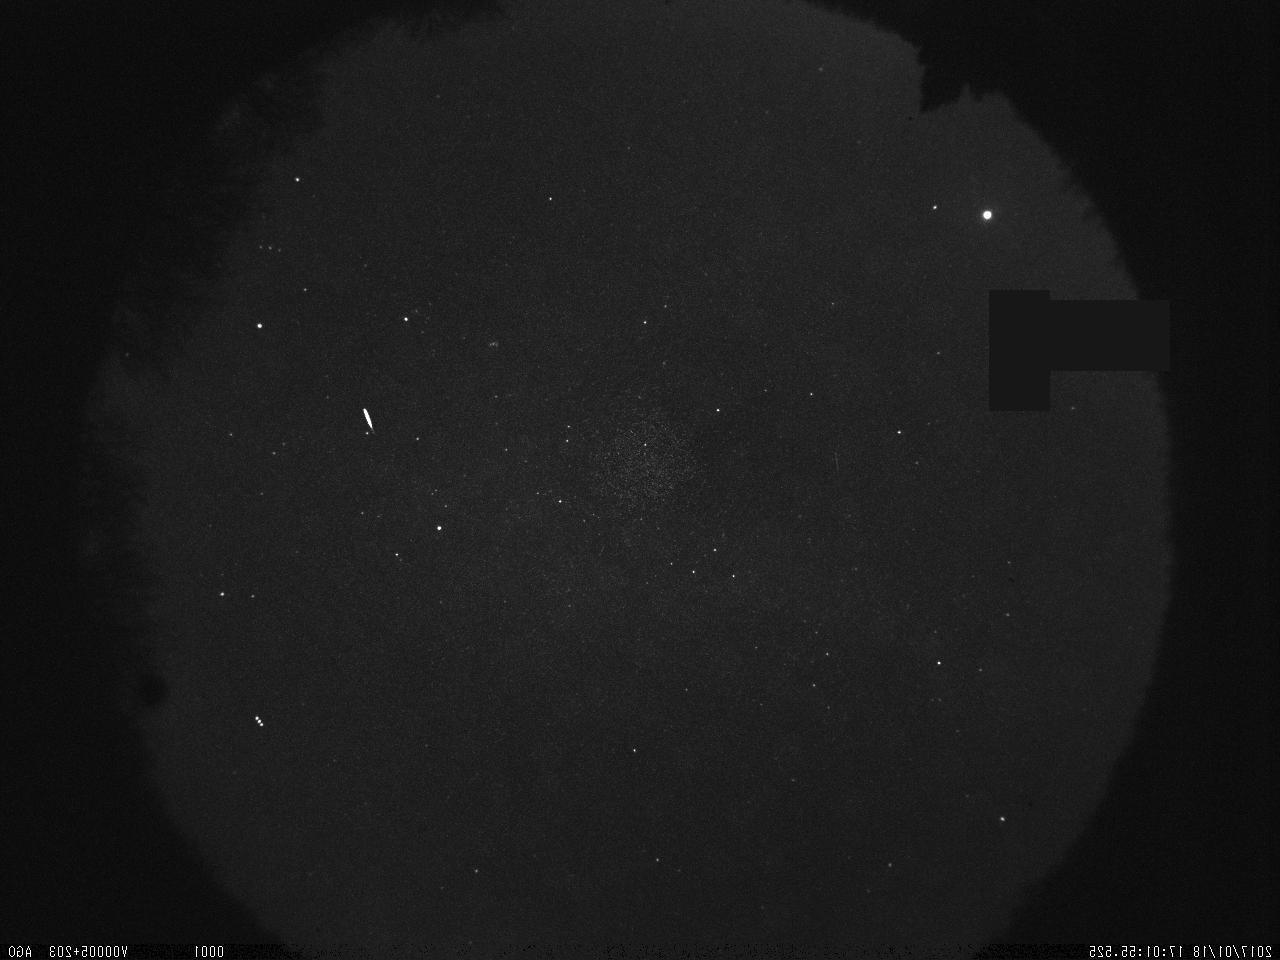meteor: (358, 401, 377, 444)
